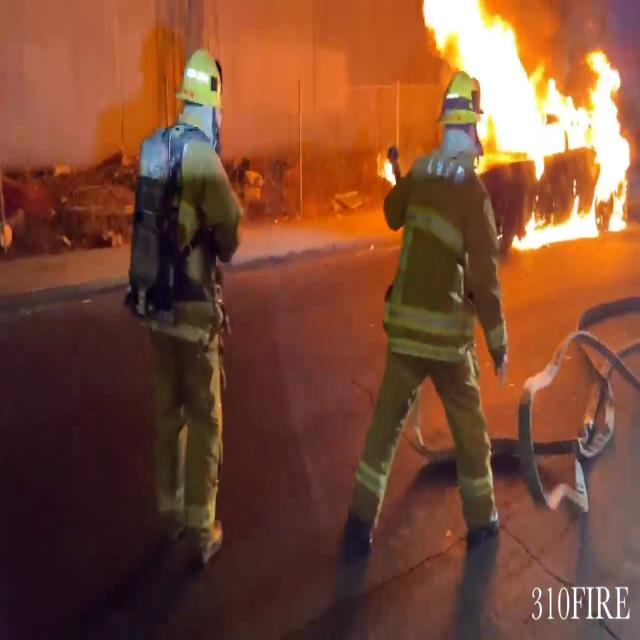Fire: (393, 0, 639, 245)
